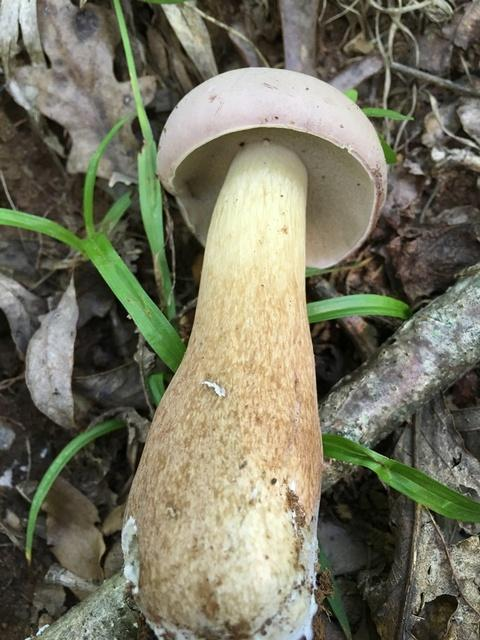poisonous_mushroom: (119, 65, 388, 638)
